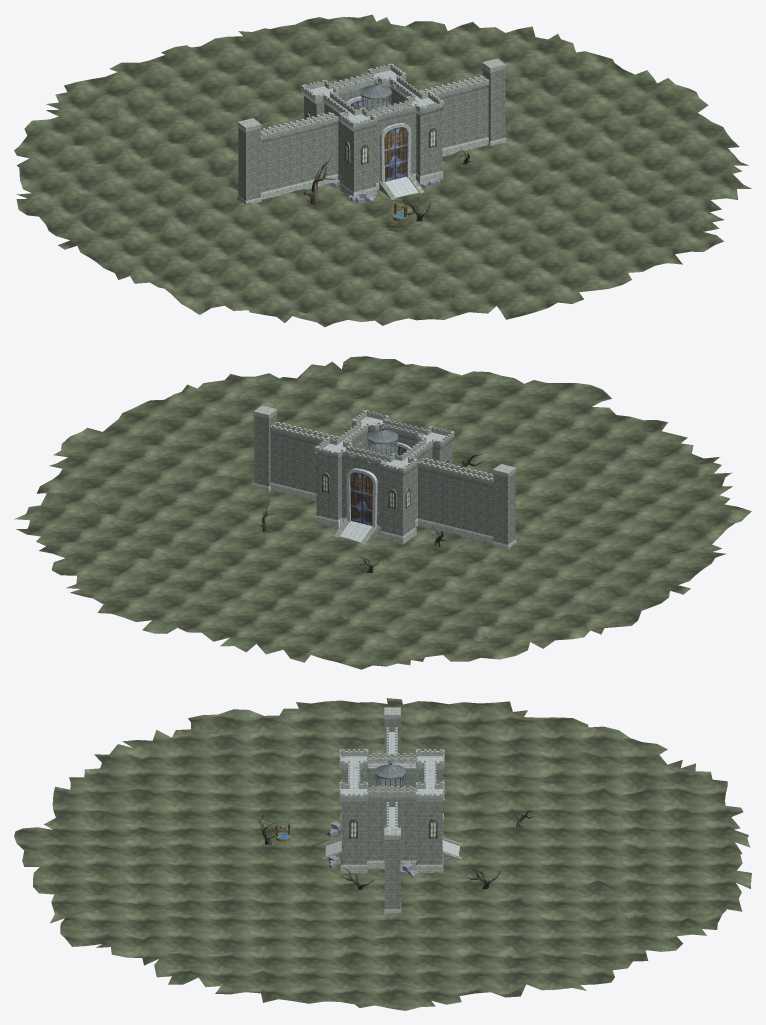
Rendered from graal_bosslevel.glb.
3 views of the same model, one above another, from view 1: azimuth 30°, elevation 25°; view 2: azimuth 150°, elevation 25°; view 3: azimuth 270°, elevation 25° (orthographic). The views are drawn at different scales.
Visible parts, largest first — view 1: ground, graalcastle, graaltrees; view 2: ground, graalcastle, graaltrees; view 3: ground, graalcastle, graaltrees.
Boxes of the visible parts, <box> form: ground: <box>14,14,751,327</box>; graalcastle: <box>237,58,506,203</box>; graaltrees: <box>258,112,472,221</box>; ground: <box>14,356,751,669</box>; graalcastle: <box>253,405,516,549</box>; graaltrees: <box>260,454,485,573</box>; ground: <box>14,698,751,1010</box>; graalcastle: <box>323,707,462,914</box>; graaltrees: <box>255,809,536,889</box>.
Bounding box in the file's own units: 195 × 32.33 × 195.
Materials: 24 (24 with a texture image).
